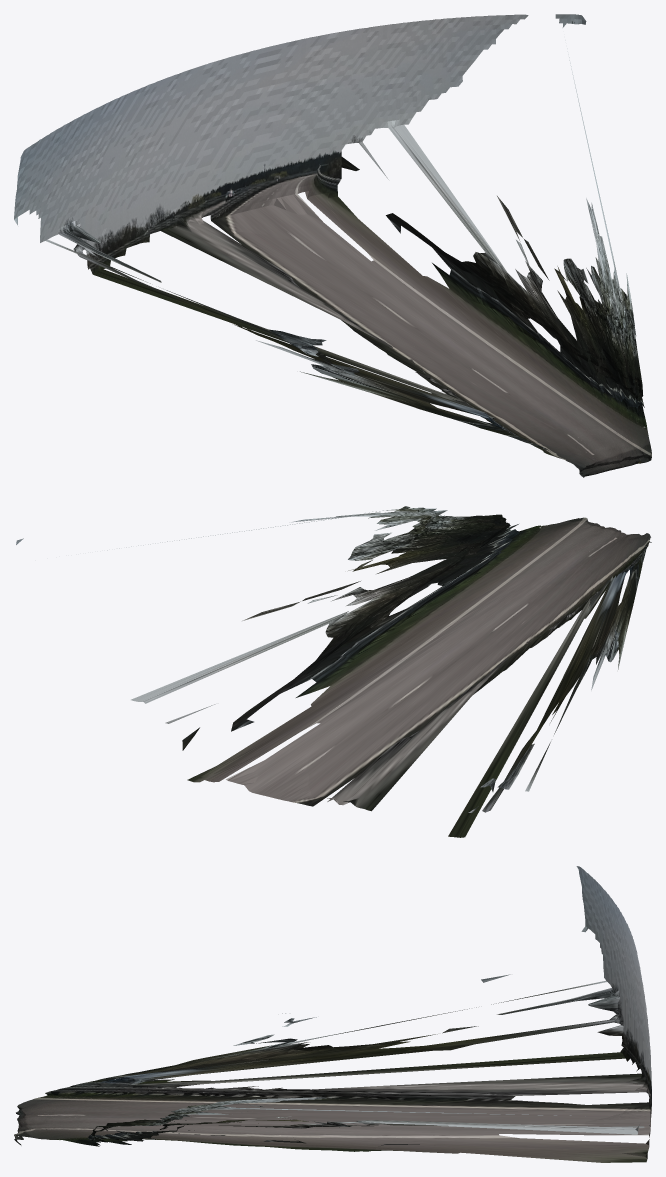
3 renders of one model, top to bottom at view 1: azimuth 30°, elevation 25°; view 2: azimuth 150°, elevation 25°; view 3: azimuth 270°, elevation 25°, orthographic. The views are drawn at different scales.
Visible parts, largest first — view 1: defaultobject; view 2: defaultobject; view 3: defaultobject.
Part boxes in pixels (bbox=[...]): defaultobject: bbox=[14, 14, 651, 477]; defaultobject: bbox=[16, 506, 651, 837]; defaultobject: bbox=[14, 866, 651, 1162].
Bounding box in the file's own units: 40.78 × 12 × 44.36.
1 material, 1 textured.
